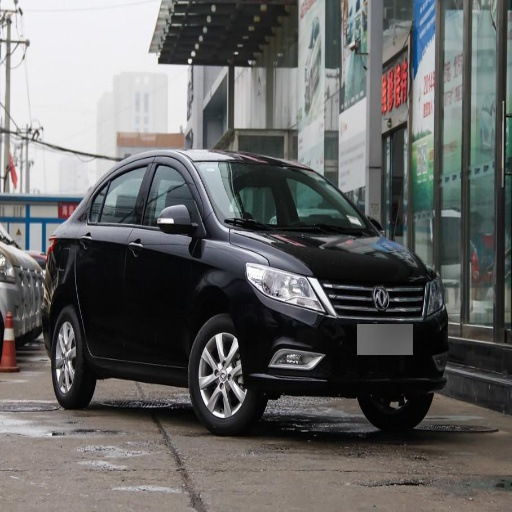front_bumper: (242, 277, 447, 404)
front_right_door: (125, 156, 199, 365)
front_right_light: (247, 256, 322, 311)
